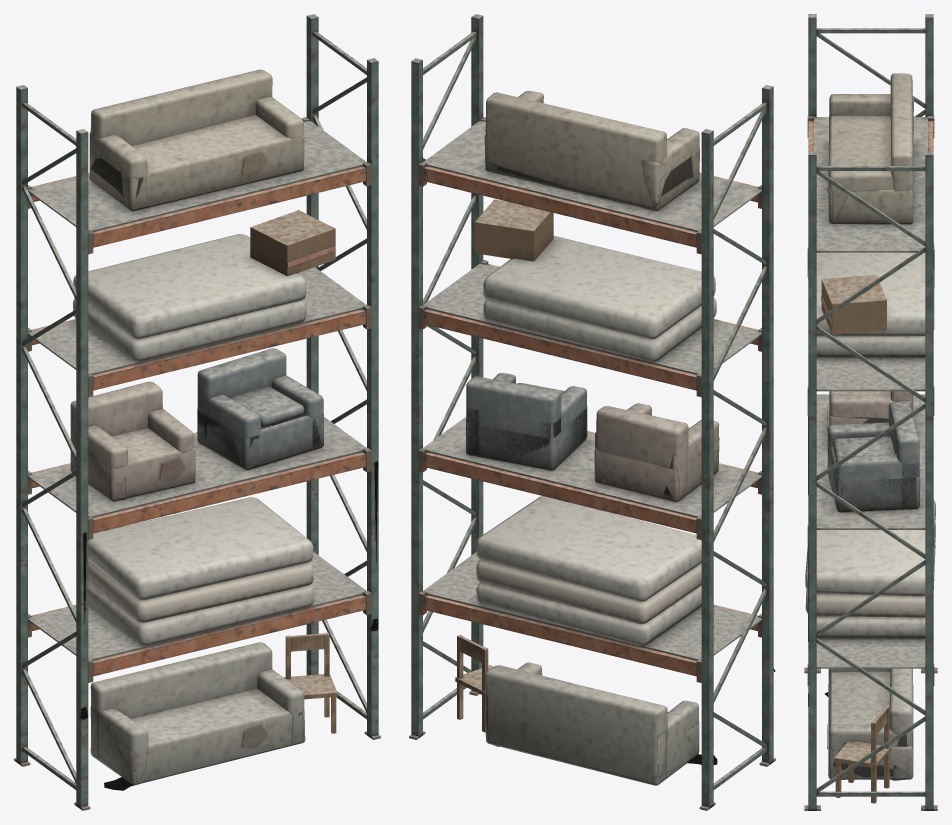
File: rack_bay_furniture.fbx
The picture shows the model from 3 angles, left to right: view 1: azimuth 30°, elevation 25°; view 2: azimuth 150°, elevation 25°; view 3: azimuth 270°, elevation 25°; orthographic projection. The views are drawn at different scales.
Visible parts, largest first — view 1: Body; view 2: Body; view 3: Body.
Part boxes in pixels (bbox=[...]): Body: bbox=[14, 14, 380, 810]; Body: bbox=[409, 14, 775, 810]; Body: bbox=[804, 14, 937, 810].
Bounding box in the file's own units: 12.07 × 26.05 × 4.8.
1 material, 1 textured.
